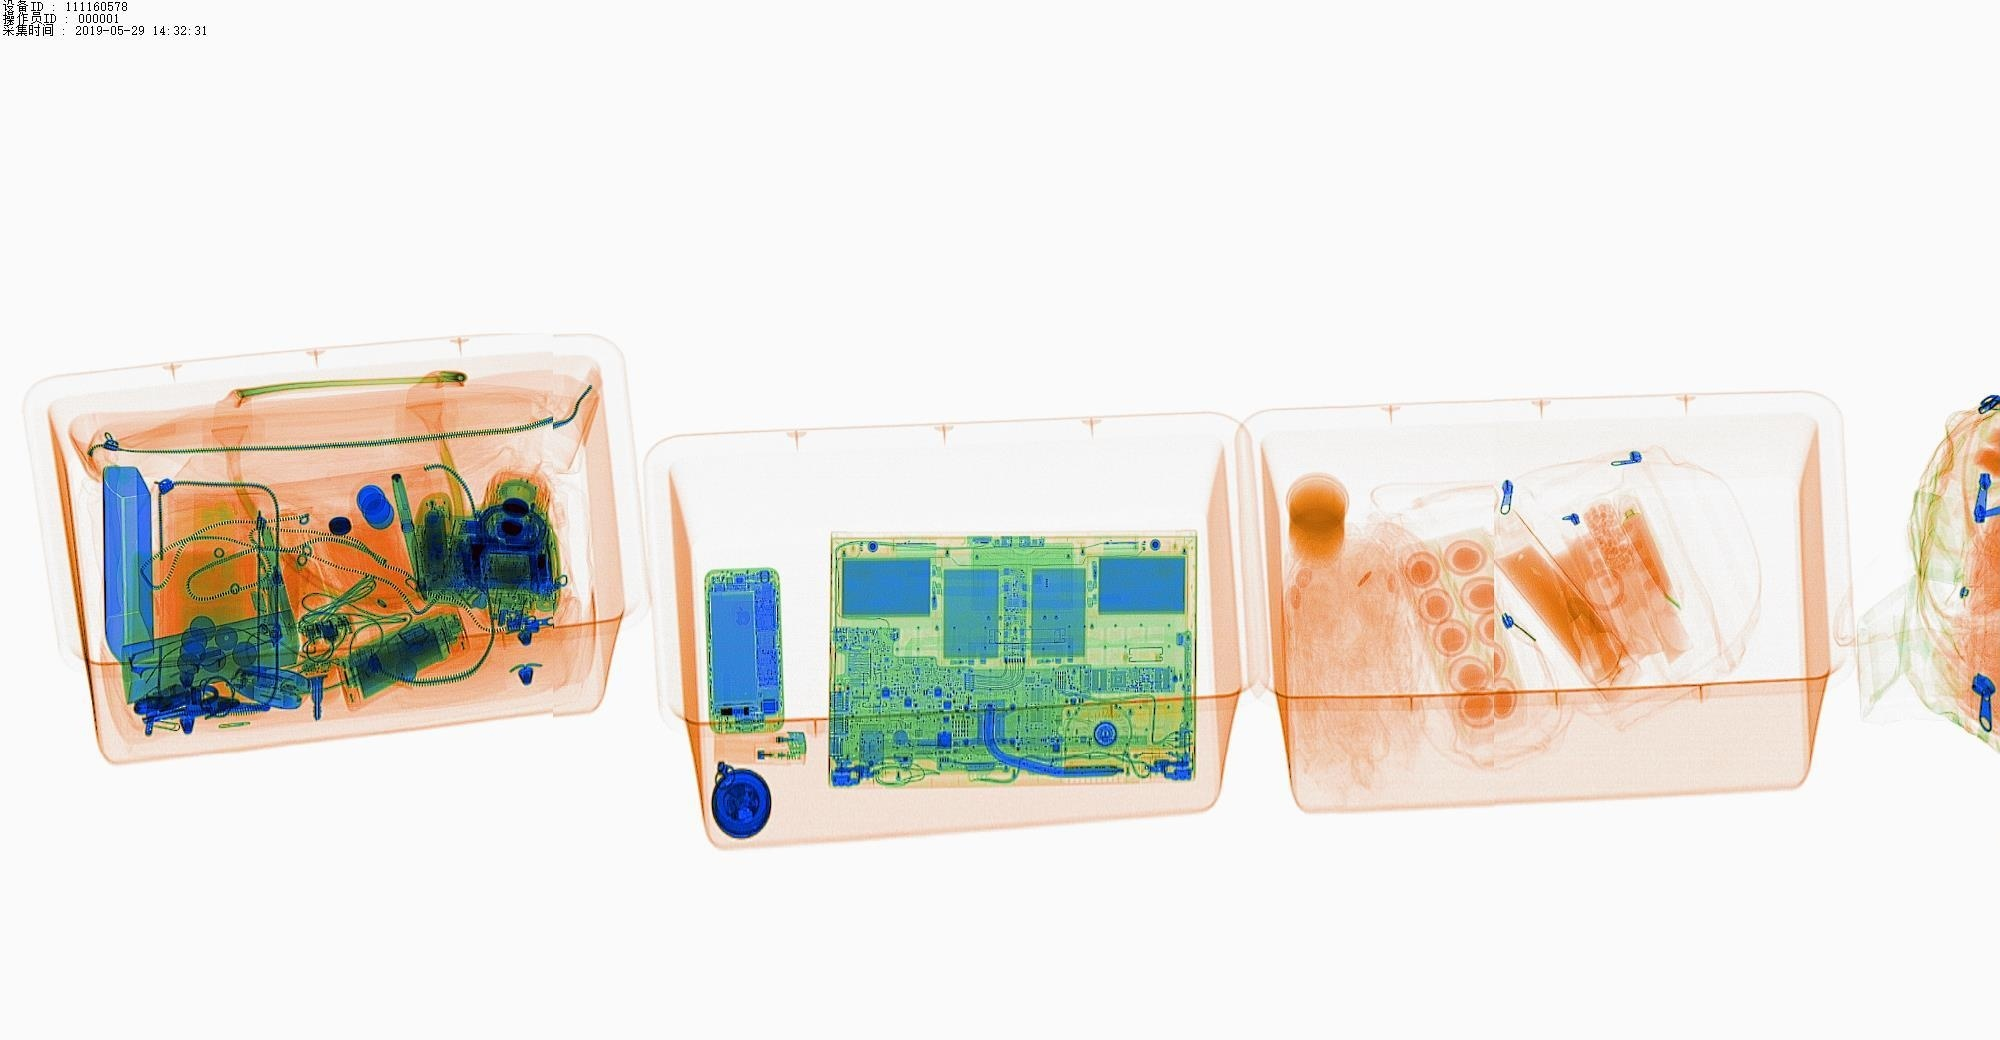NonmetallicFire: (708, 724, 817, 777)
